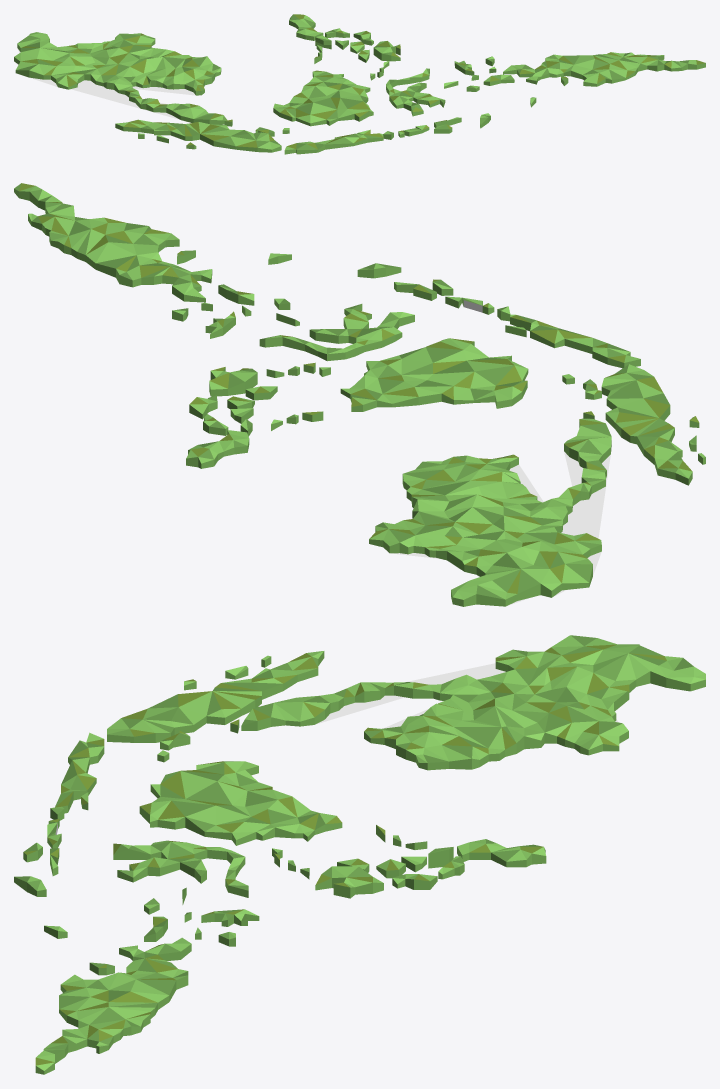
Rendered from SouthEastAsia.fbx.
3 views of the same model, one above another, from view 1: azimuth 30°, elevation 25°; view 2: azimuth 150°, elevation 25°; view 3: azimuth 270°, elevation 25° (orthographic). The views are drawn at different scales.
Parts seen in each view (by area): view 1: Model; view 2: Model; view 3: Model.
Boxes of the visible parts, x1,y1,x2,y2 form: Model: (14, 14, 705, 154); Model: (14, 183, 705, 606); Model: (14, 635, 705, 1074).
Size of the model in its own units: 7.54 by 0.22 by 5.1.
